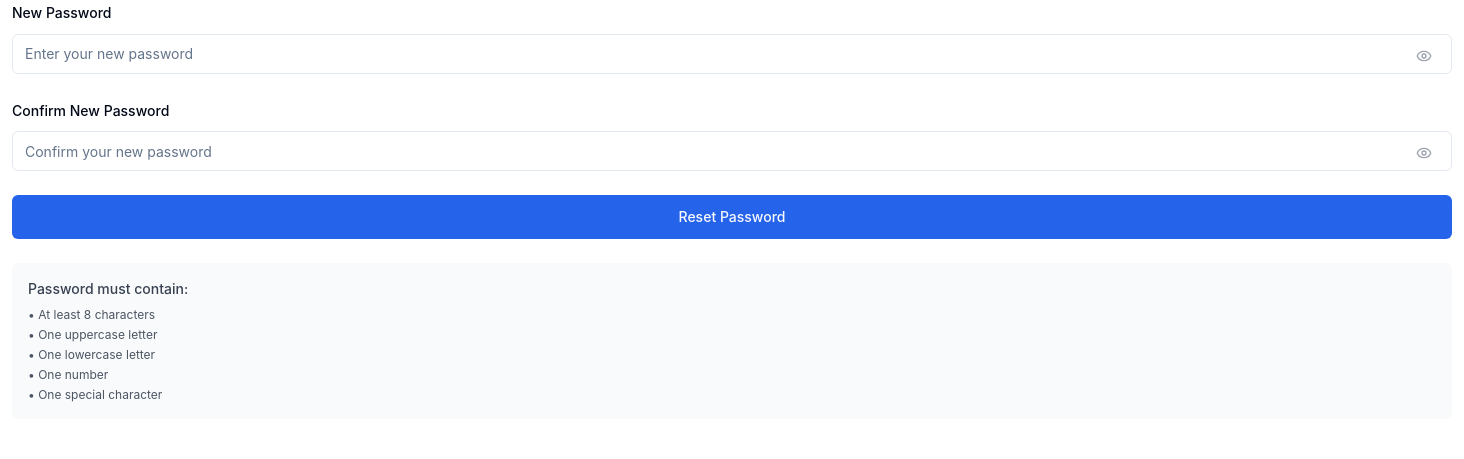
Test: ResetPasswordForm › should show password strength meter when typing
The width and height of the screenshot is (1464, 459).
Type weak password
Step 1. Type "123" into the password field with placeholder "Enter your new password" → (732, 54), box [12, 34, 1452, 74]
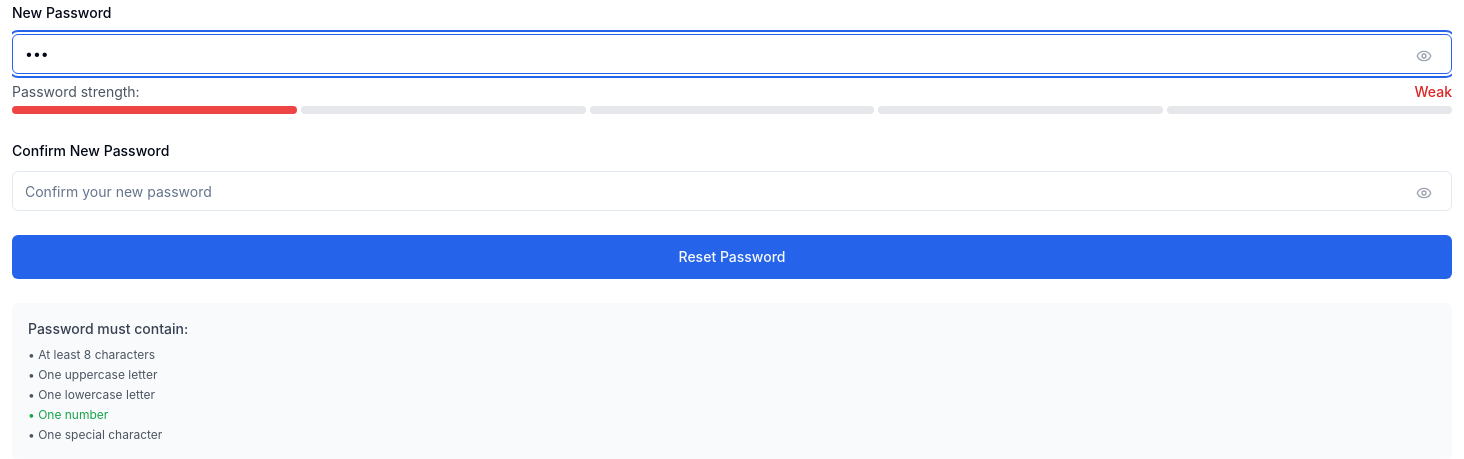
Expected: the text "Password strength:" is shown, [12, 82, 140, 102]
Expected: the text "Weak" is shown, [1414, 82, 1452, 102]
Clear and type strong password
Step 2. Type "Password123!" into the password field with placeholder "Enter your new password" → (732, 54), box [12, 34, 1452, 74]
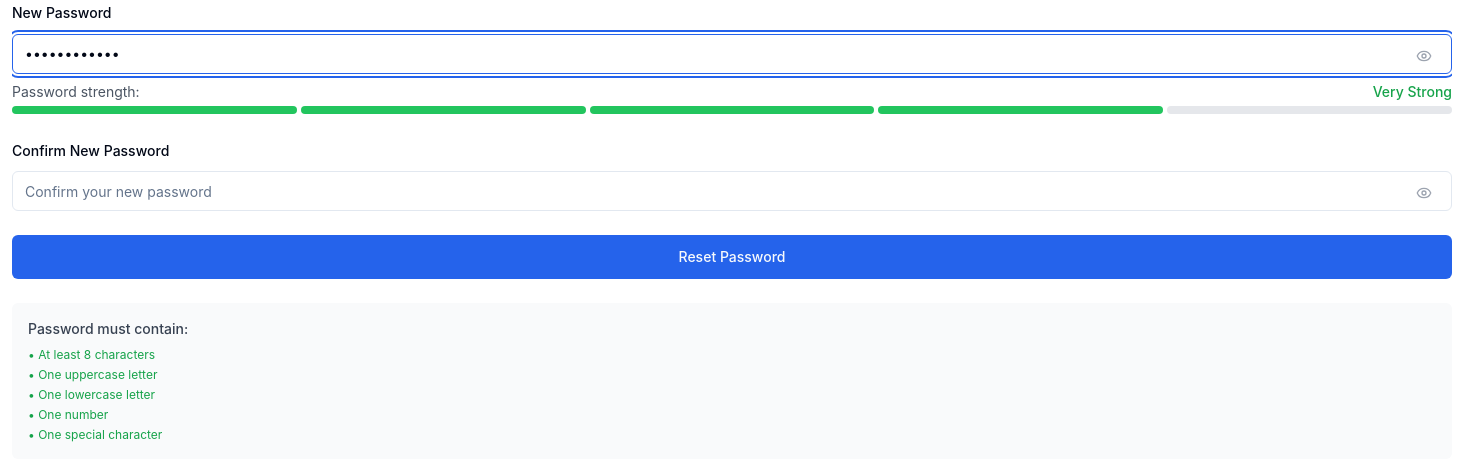
Expected: the text "Very Strong" is shown, [1373, 82, 1452, 102]
